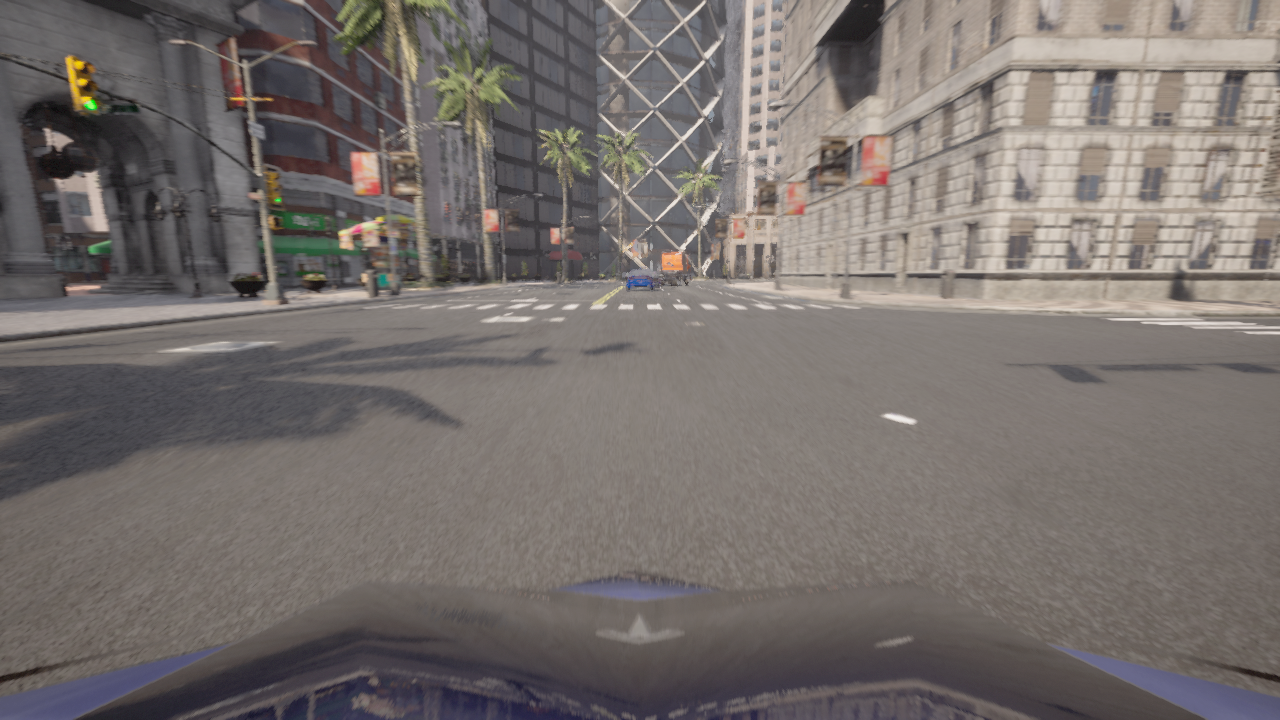cyclist: (0, 569, 1279, 719), (650, 250, 693, 287), (626, 270, 653, 290)
